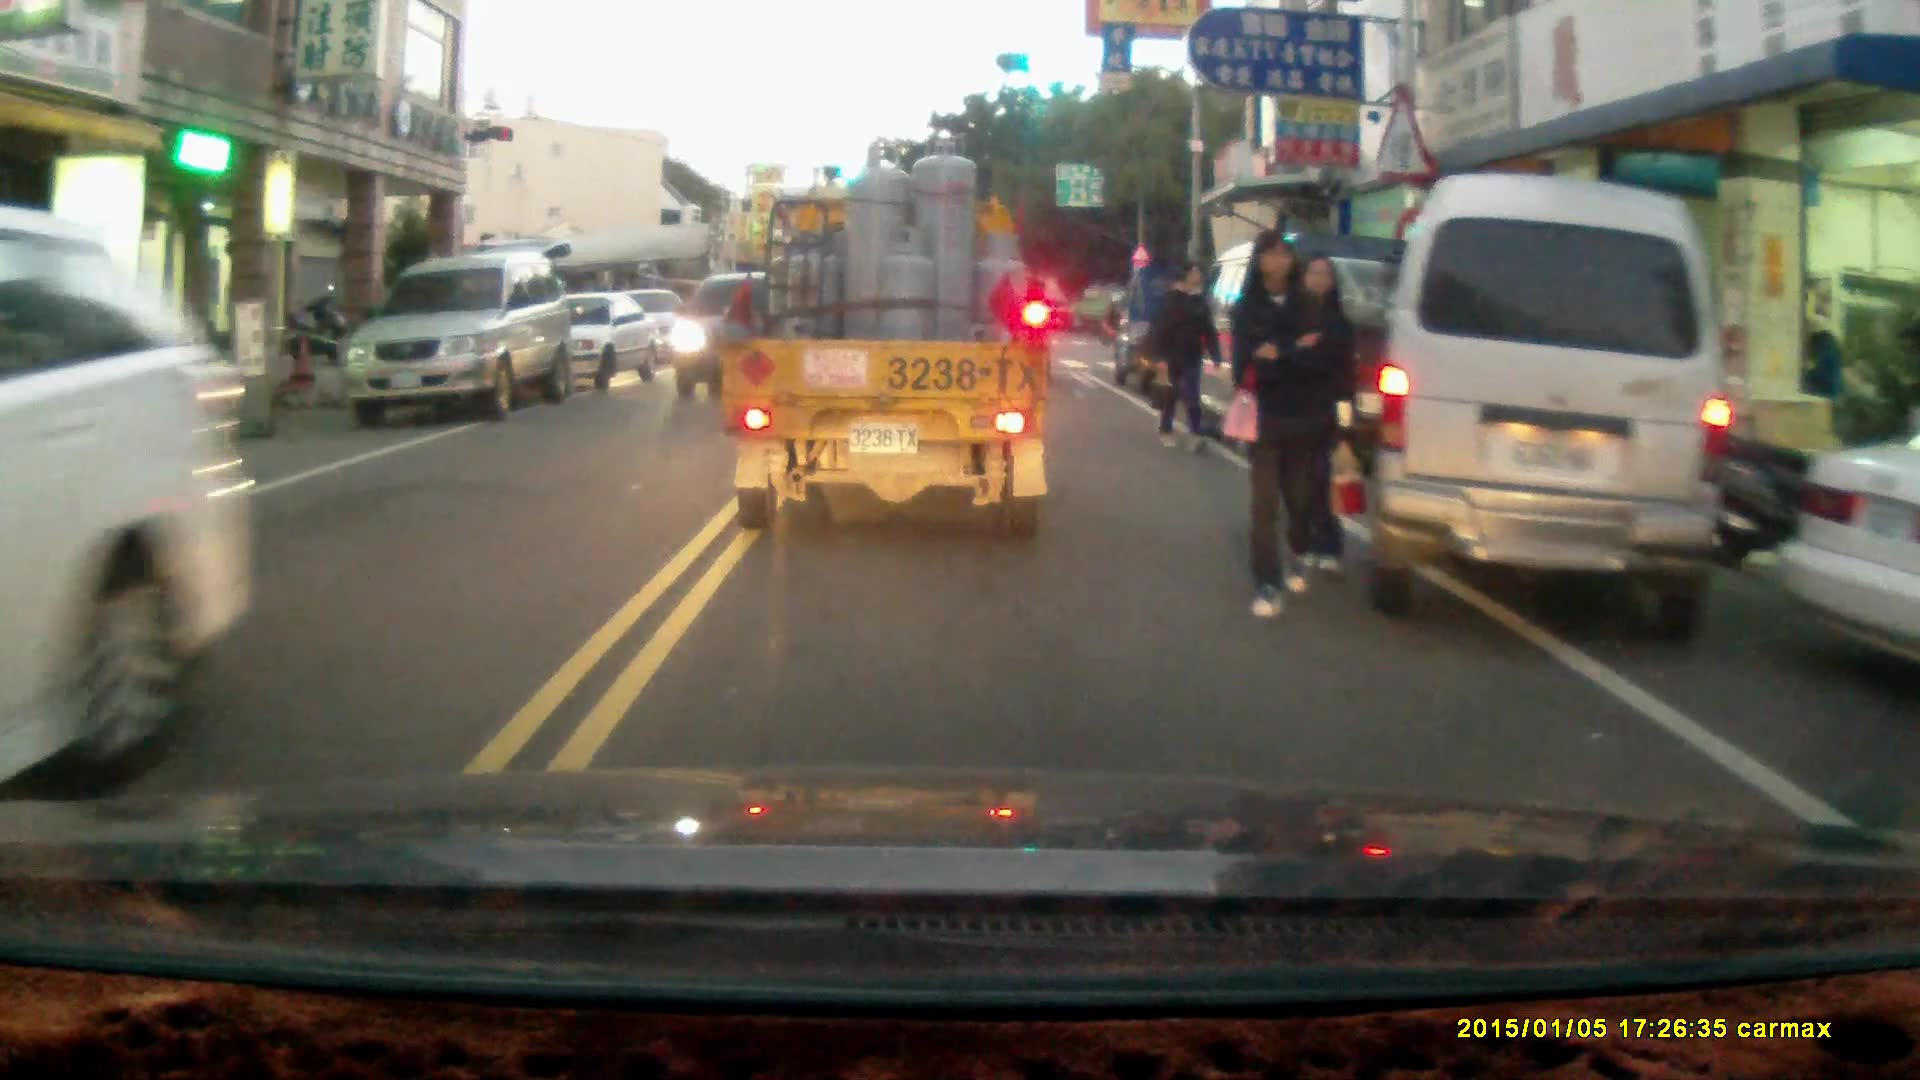pedestrian: (1230, 225, 1331, 618), (1149, 260, 1216, 459)
rider: (1097, 293, 1128, 341)
vehicle: (1366, 175, 1742, 643), (1, 209, 256, 807), (716, 131, 1054, 534), (1173, 223, 1464, 454), (346, 247, 579, 430), (1773, 430, 1920, 666), (509, 291, 666, 393)
